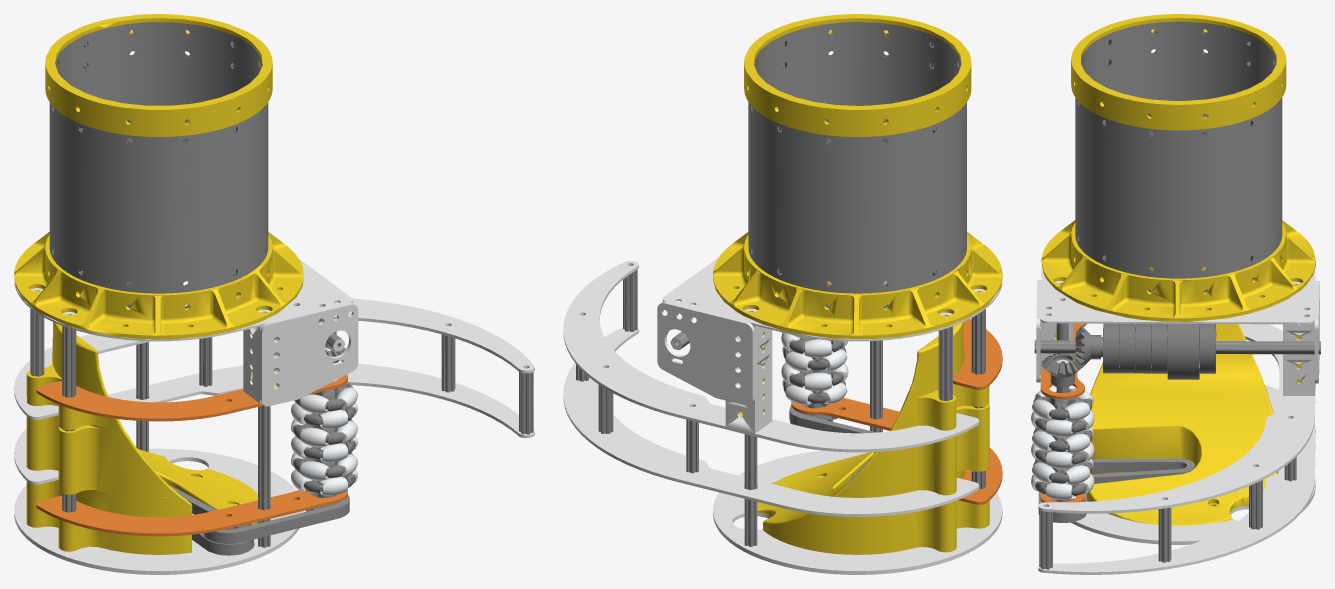
Rendered from rotor-604-donor.glb.
The picture shows the model from 3 angles, left to right: view 1: azimuth 30°, elevation 25°; view 2: azimuth 150°, elevation 25°; view 3: azimuth 270°, elevation 25°; orthographic projection. The views are drawn at different scales.
Parts seen in each view (by area): view 1: rotor, frame, infeed; view 2: frame, rotor, infeed; view 3: rotor, frame, upfeed, infeed.
Part boxes in pixels (x1,y1,x2,y2): rotor: [14, 14, 303, 339]; frame: [14, 259, 534, 574]; infeed: [291, 344, 357, 511]; frame: [563, 258, 1002, 574]; rotor: [713, 14, 1002, 338]; infeed: [781, 281, 848, 421]; rotor: [1041, 14, 1315, 321]; frame: [1036, 261, 1319, 574]; upfeed: [1034, 323, 1320, 379]; infeed: [1031, 353, 1094, 501].
Size of the model in its own units: 0.3739 by 0.3715 by 0.2282.
